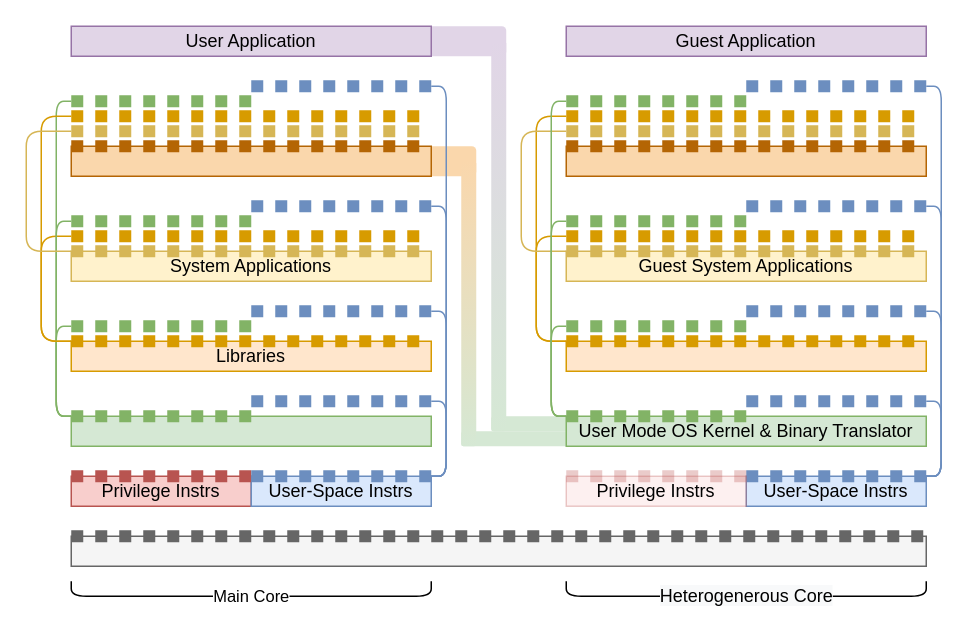
This 969x633 diagram has some shape labels left out. Each missing label, with the centre of its shape:
"Guest Libraries" belongs at [745,355].
"Guest Other User Applications" belongs at [745,160].
"Hardware Resouces" belongs at [498,550].
"OS Kernel" belongs at [250,430].
"Other User Applications" belongs at [250,160].
